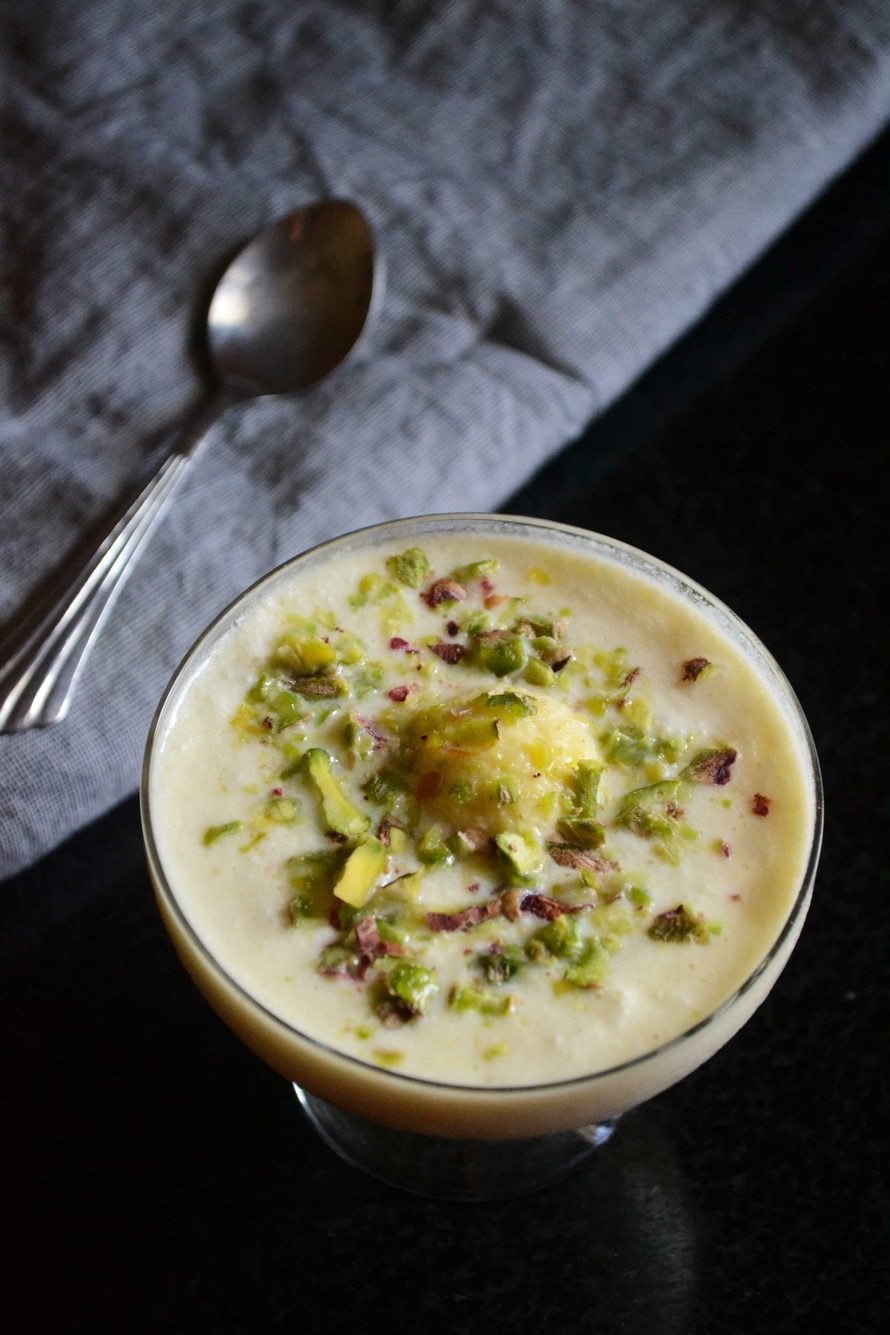RasMalai: (169, 534, 795, 1082)
